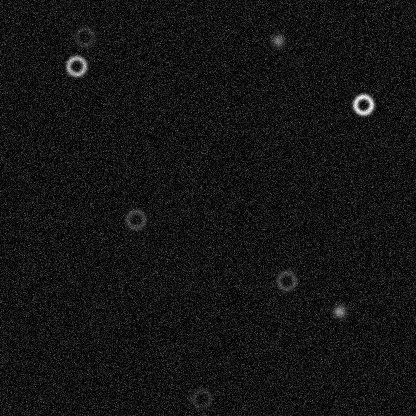Ring: (351, 92, 375, 116), (64, 53, 88, 77), (72, 24, 96, 48), (274, 268, 298, 292), (189, 386, 213, 410), (123, 207, 147, 231)
Spot: (331, 303, 347, 319), (269, 32, 285, 48)
